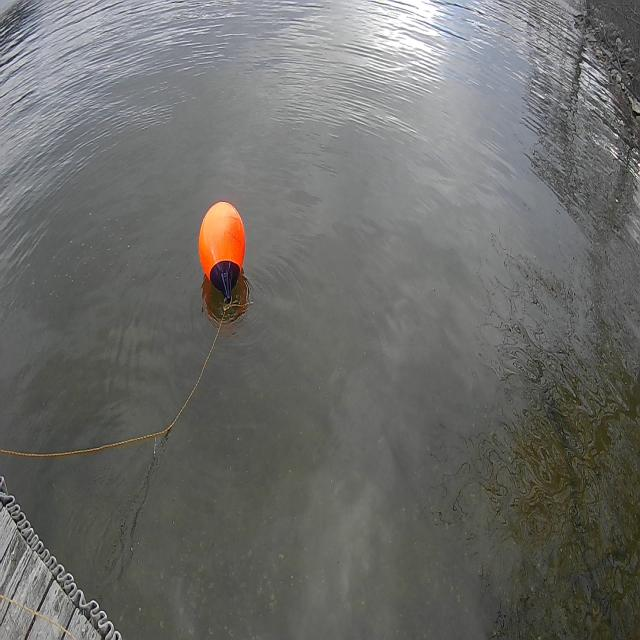Buoy: (194, 192, 248, 312)
